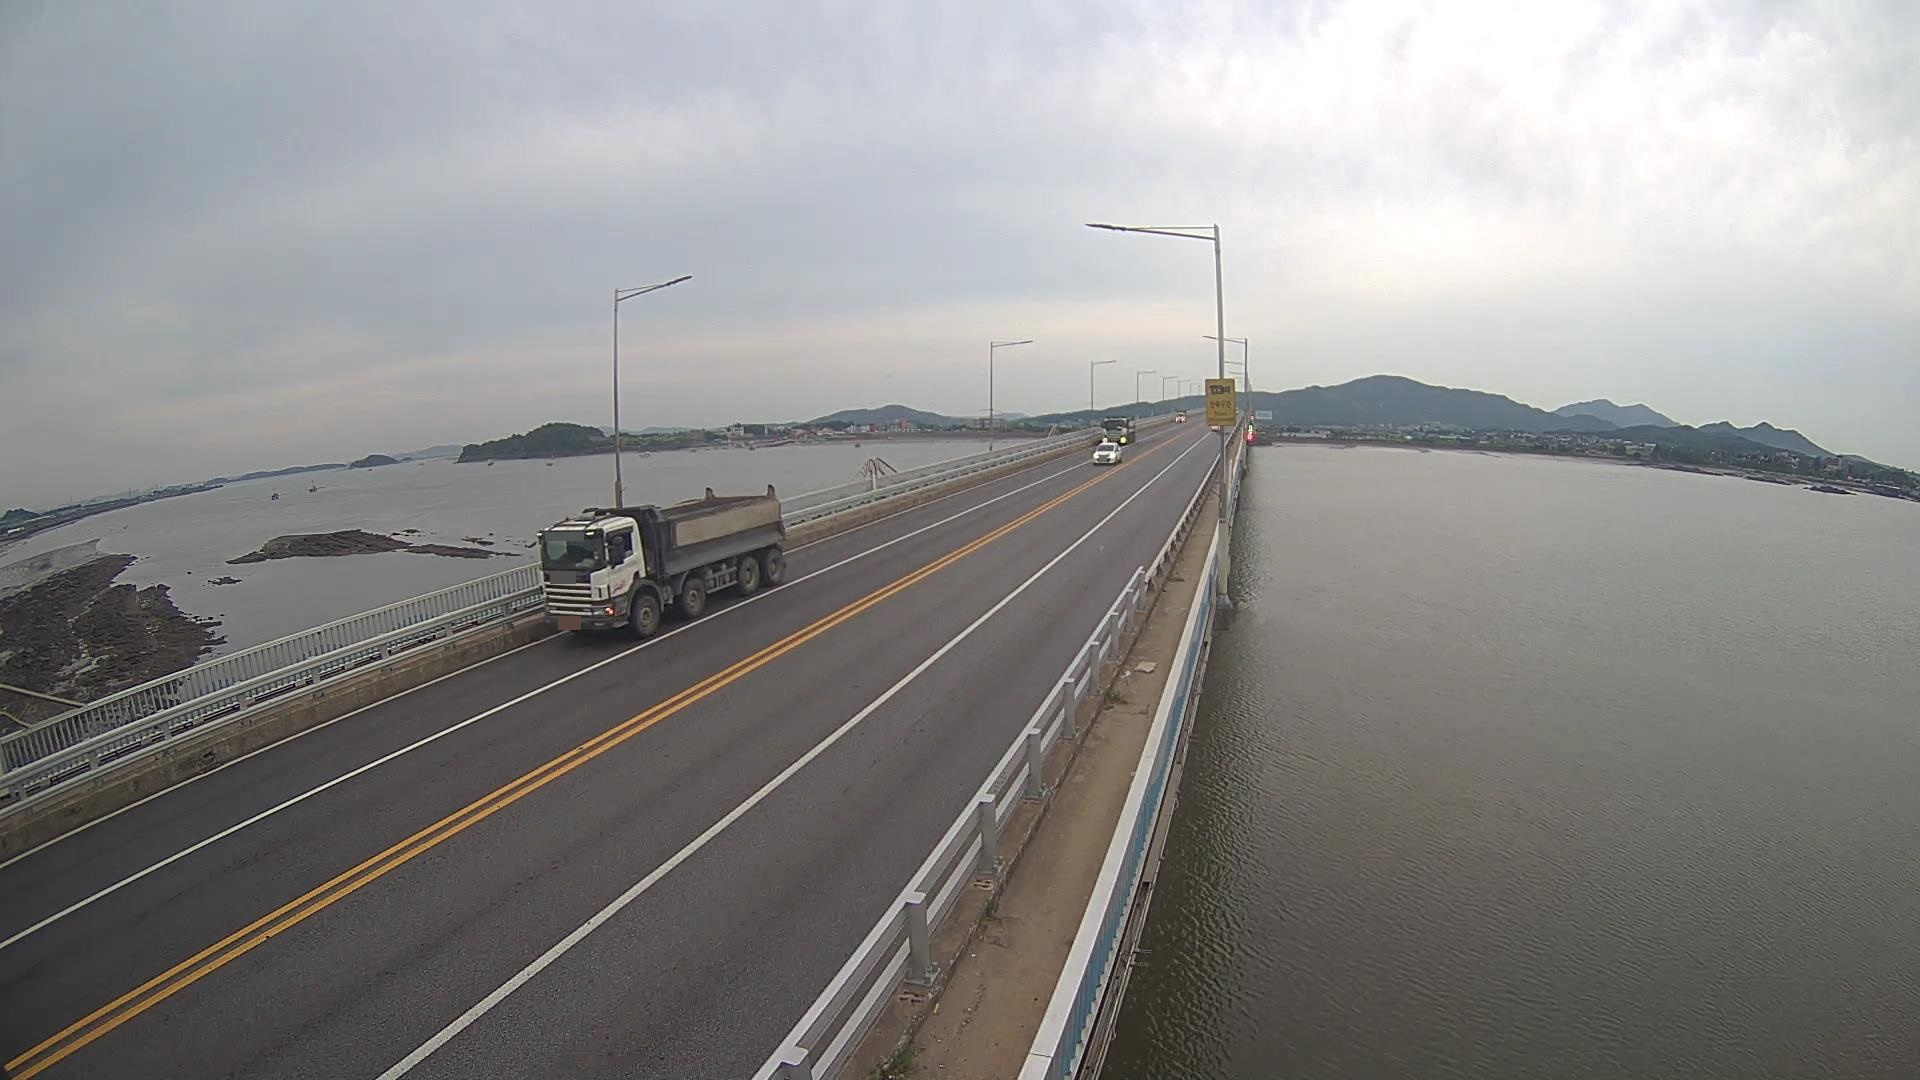정상차량: (536, 484, 786, 639)
